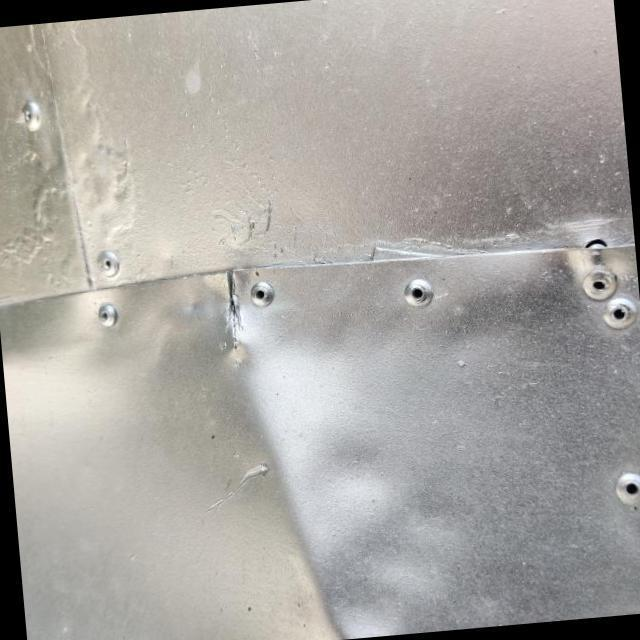dent: (215, 347, 355, 639)
